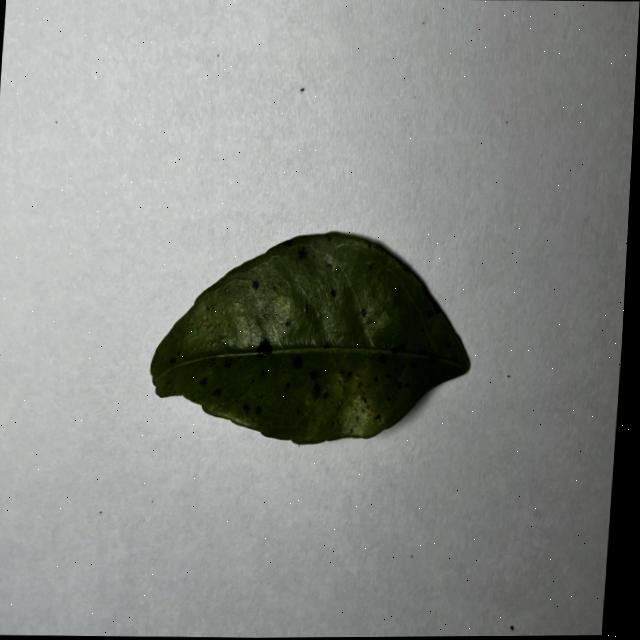sooty_mold: (150, 232, 469, 443)
